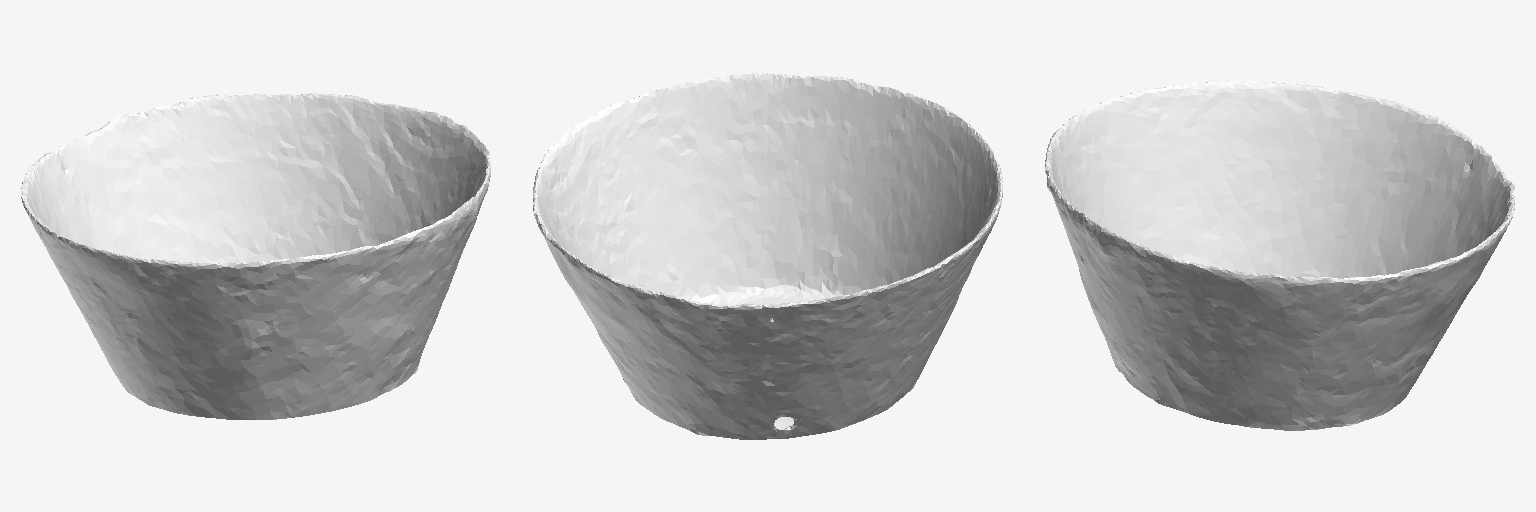
URDF robot description (saladbowl):
<?xml version="1.0" ?>
<robot name="saladbowl">
 <link name="baseLink">
   <contact>
     <lateral_friction value="0.5"/>
   </contact>
   <inertial>
     <origin rpy="0 0 0" xyz="-0.002824 -0.000849 -0.007509"/>
      <mass value="1.0"/>
      <inertia ixx="0.000000" ixy="-0.000000" ixz="-0.000000" iyy="0.000000" iyz="0.000000" izz="0.000000"/>
   </inertial>
   <visual>
     <origin rpy="0 0 0" xyz="0 0 0"/>
     <geometry>
       <mesh filename="saladbowl.obj" scale="1.0 1.0 1.0"/>
     </geometry>
      <material name="white">
       <color rgba="1 1 1 1"/>
     </material>
   </visual>
   <collision>
     <origin rpy="0 0 0" xyz="0 0 0"/>
     <geometry>
       <mesh filename="saladbowl_vhacd2.obj" scale="1.0 1.0 1.0"/>
     </geometry>
   </collision>
 </link>
</robot>

--- Facts derived from the render (not from the file) ---
3 views of the same robot in one strip: view 1: azimuth 30°, elevation 25°; view 2: azimuth 150°, elevation 25°; view 3: azimuth 270°, elevation 25° (orthographic).
Model saladbowl with 1 links and 0 joints (none), rooted at baseLink, posed all joints at 0.
Links seen in each view (by area): view 1: baseLink; view 2: baseLink; view 3: baseLink.
Link boxes in pixels (bbox=[...]): baseLink: bbox=[21, 92, 490, 419]; baseLink: bbox=[533, 72, 1002, 439]; baseLink: bbox=[1045, 81, 1514, 430].
Size in the robot's own frame: 0.1508 by 0.1486 by 0.0759 metres.
1 mesh visuals loaded from 1 distinct referenced files (1 OBJ).